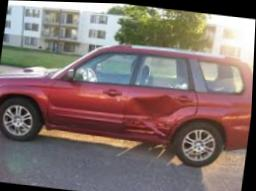Door: (124, 84, 198, 140), (219, 101, 251, 145)
